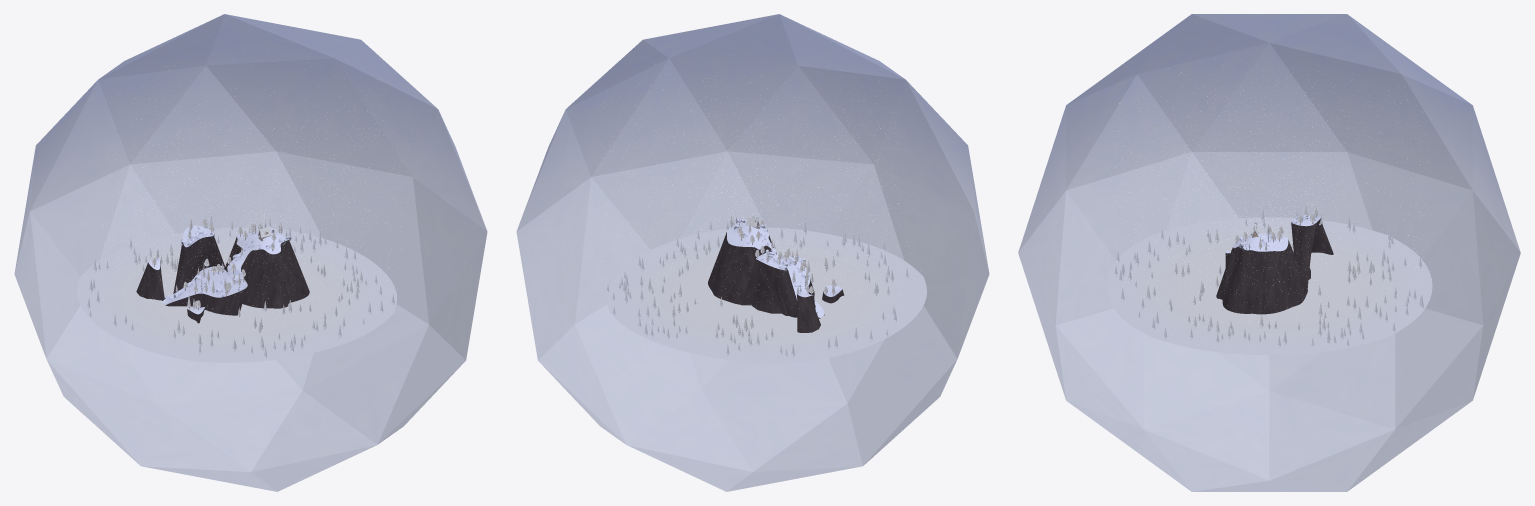
Rendered from hillCabin_compressed.glb.
3 views of the same model, side by side, from view 1: azimuth 30°, elevation 25°; view 2: azimuth 150°, elevation 25°; view 3: azimuth 270°, elevation 25° (orthographic). The views are drawn at different scales.
Size of the model in its own units: 156 by 164 by 164.
Materials: 3 (2 with a texture image).
